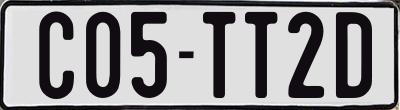0: (85, 12, 120, 101)
2: (287, 12, 324, 99)
5: (129, 12, 171, 101)
C: (36, 11, 74, 104)
D: (333, 10, 375, 99)
T: (245, 12, 281, 98), (201, 12, 234, 101)
